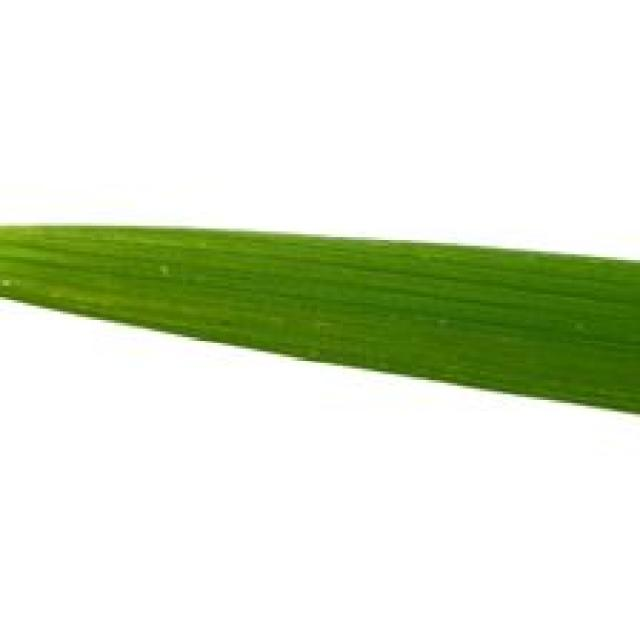Rice___Healthy_Rice_Plant: (1, 226, 637, 416)
